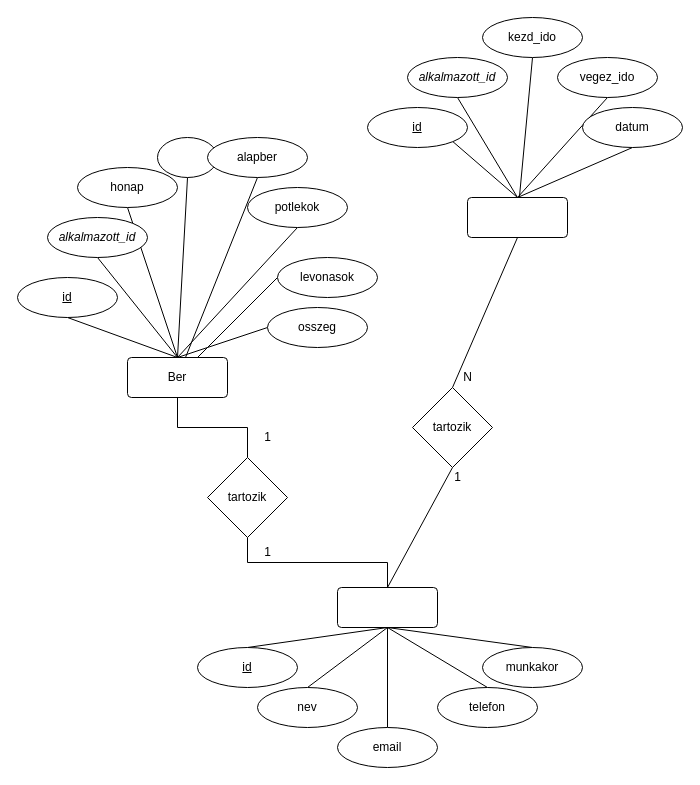
Some shapes in this 700 by 785 pixel diagram are drawn without their labels. Here are the shapes that lost their labels. From the top down, the box of each, then its label:
(156, 136, 218, 178): ev
(466, 196, 568, 238): Beosztas
(336, 586, 438, 628): Kalauz
